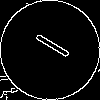I: (25, 25, 72, 61)
